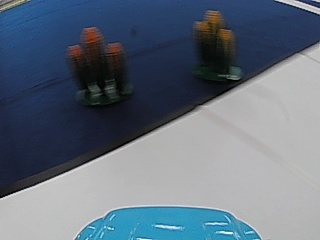tractor: (64, 24, 131, 111), (193, 9, 238, 84)
